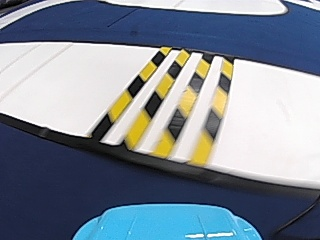bump: (99, 47, 235, 167)
